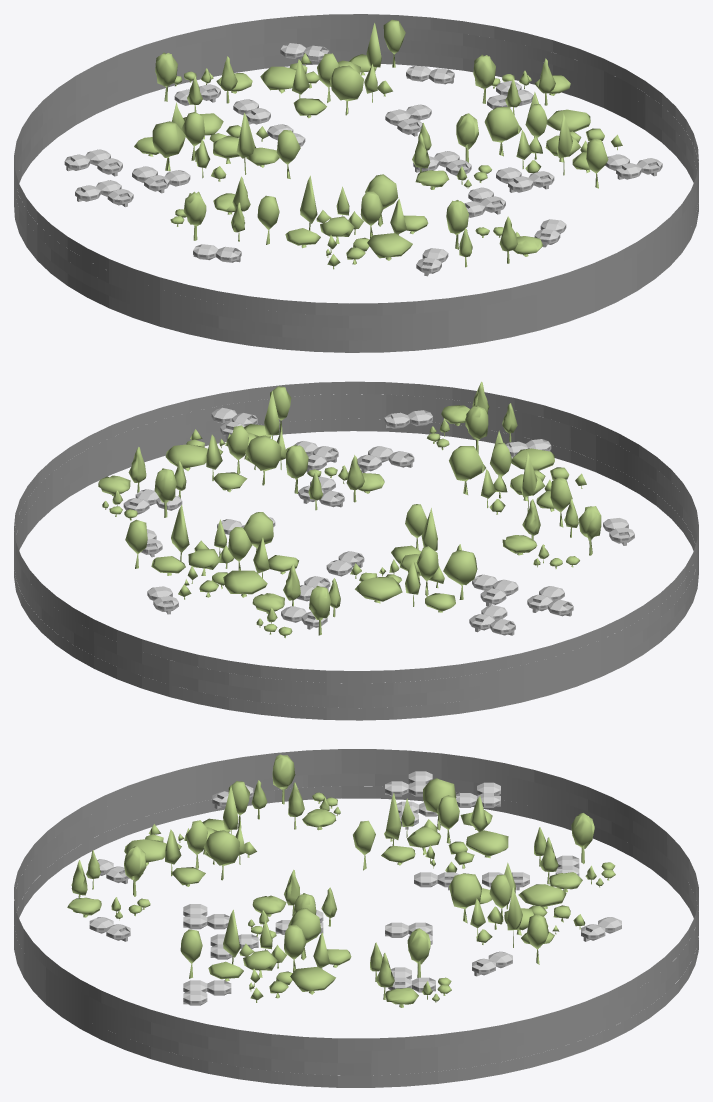
Rendered from arco1_lod3.dae.
3 views of the same model, one above another, from view 1: azimuth 30°, elevation 25°; view 2: azimuth 150°, elevation 25°; view 3: azimuth 270°, elevation 25° (orthographic).
Visible parts, largest first — view 1: wins_on_001, wins_off_001, trees1_lod2_003, trees1_lod2_000, trees1_lod2_001, trees1_lod2_002, trees2_lod2_002, trees2_lod2_003, trees2_lod2_000, trees2_lod2_001, trees2_lod2_004; view 2: wins_on_001, wins_off_001, trees1_lod2_001, trees1_lod2_000, trees1_lod2_003, trees1_lod2_002, trees2_lod2_004, trees2_lod2_001, trees2_lod2_000, trees2_lod2_002, trees2_lod2_003; view 3: wins_on_001, wins_off_001, trees1_lod2_002, trees1_lod2_000, trees1_lod2_001, trees1_lod2_003, trees2_lod2_004, trees2_lod2_000, trees2_lod2_001, trees2_lod2_003, trees2_lod2_002.
Boxes of the visible parts, left/top/right/bottom form: wins_on_001: left=14, top=14, right=698, bottom=352; wins_off_001: left=14, top=17, right=698, bottom=352; trees1_lod2_003: left=257, top=174, right=428, bottom=269; trees1_lod2_000: left=134, top=102, right=300, bottom=181; trees1_lod2_001: left=260, top=19, right=405, bottom=118; trees1_lod2_002: left=484, top=92, right=622, bottom=188; trees2_lod2_002: left=412, top=113, right=491, bottom=189; trees2_lod2_003: left=446, top=200, right=543, bottom=267; trees2_lod2_000: left=155, top=52, right=252, bottom=111; trees2_lod2_001: left=473, top=54, right=570, bottom=115; trees2_lod2_004: left=170, top=176, right=250, bottom=241; wins_on_001: left=14, top=384, right=698, bottom=719; wins_off_001: left=14, top=381, right=698, bottom=720; trees1_lod2_001: left=125, top=505, right=298, bottom=599; trees1_lod2_000: left=350, top=504, right=477, bottom=612; trees1_lod2_003: left=449, top=430, right=586, bottom=527; trees1_lod2_002: left=165, top=386, right=291, bottom=492; trees2_lod2_004: left=502, top=498, right=601, bottom=568; trees2_lod2_001: left=98, top=447, right=186, bottom=520; trees2_lod2_000: left=252, top=564, right=340, bottom=638; trees2_lod2_002: left=286, top=444, right=384, bottom=510; trees2_lod2_003: left=427, top=381, right=517, bottom=453; wins_on_001: left=14, top=749, right=698, bottom=1087; wins_off_001: left=14, top=749, right=698, bottom=1087; trees1_lod2_002: left=180, top=908, right=351, bottom=1002; trees1_lod2_000: left=353, top=778, right=508, bottom=872; trees1_lod2_001: left=449, top=862, right=585, bottom=964; trees1_lod2_003: left=124, top=781, right=256, bottom=886; trees2_lod2_004: left=251, top=754, right=340, bottom=830; trees2_lod2_000: left=534, top=813, right=615, bottom=892; trees2_lod2_001: left=370, top=928, right=451, bottom=1007; trees2_lod2_003: left=67, top=845, right=150, bottom=920; trees2_lod2_002: left=248, top=869, right=336, bottom=938.
Size of what is drawn, in the model's own units: 401 by 401 by 68.11.
